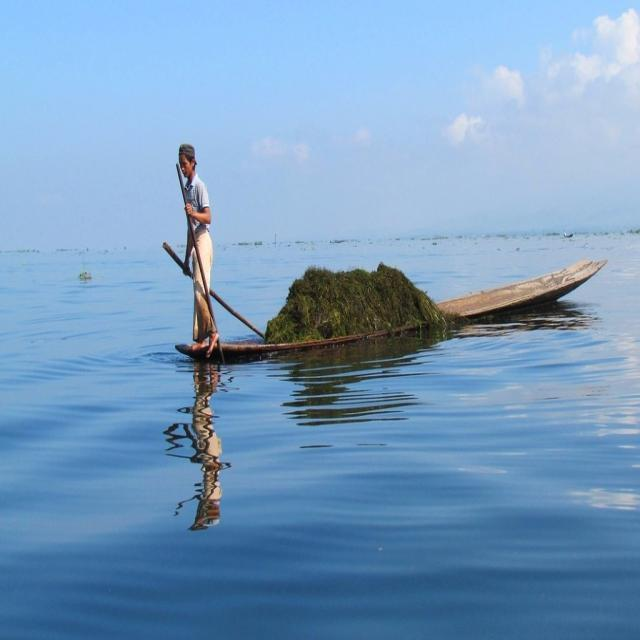Hyacinth: (76, 262, 99, 288), (15, 244, 42, 256), (233, 236, 255, 249), (327, 236, 350, 248)
boat: (165, 250, 621, 356), (563, 230, 575, 240)
